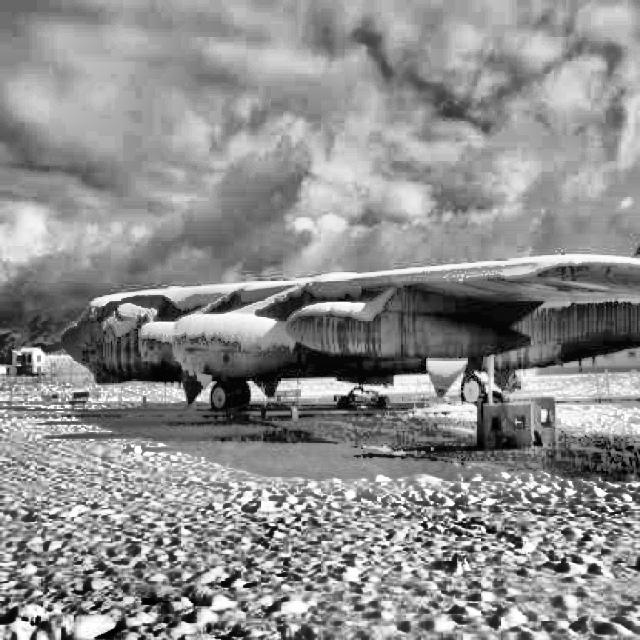B52: (61, 243, 640, 430)
